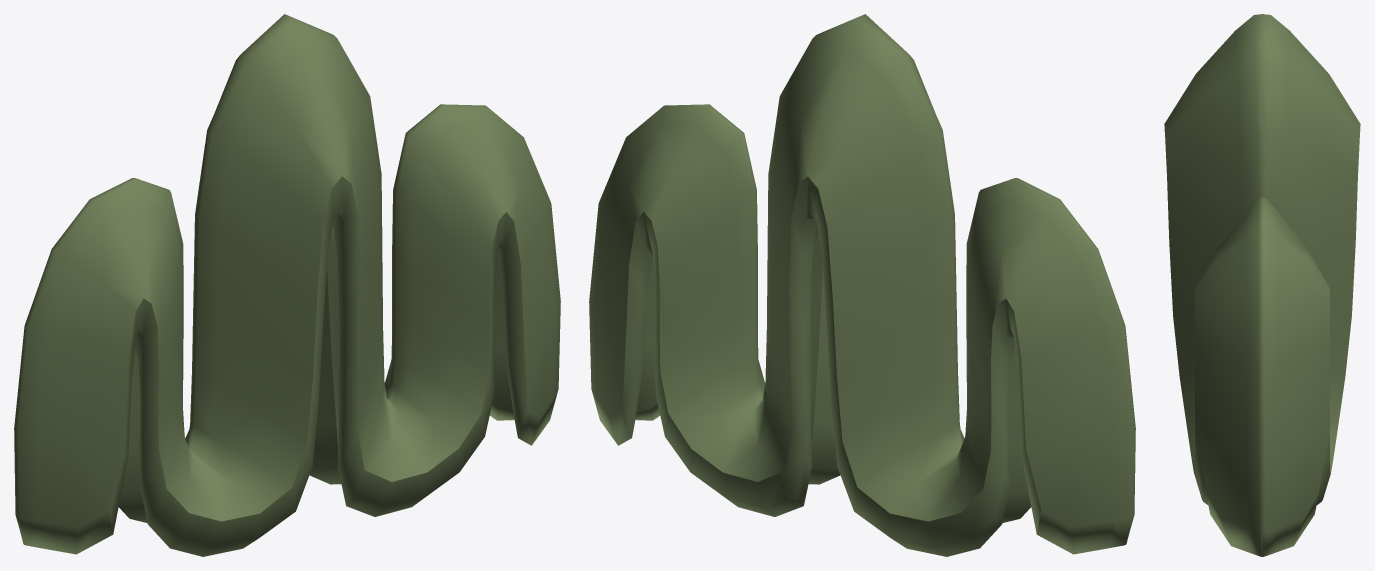
The model's file is quaternius-ultimate-space-pack-bush-2-transformed.glb.
3 views of the same model, side by side, from view 1: azimuth 30°, elevation 25°; view 2: azimuth 150°, elevation 25°; view 3: azimuth 270°, elevation 25° (orthographic). The views are drawn at different scales.
Parts seen in each view (by area): view 1: Bush_2; view 2: Bush_2; view 3: Bush_2.
Boxes of the visible parts, x1,y1,x2,y2 form: Bush_2: [14, 14, 560, 556]; Bush_2: [589, 14, 1135, 556]; Bush_2: [1164, 14, 1360, 556].
Size of the model in its own units: 1.82 by 1.6 by 0.6208.
Materials: 1 (1 with a texture image).
